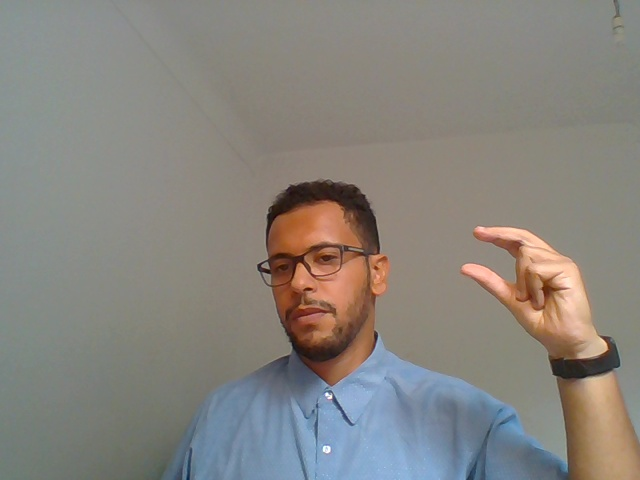no: (445, 199, 616, 426)
